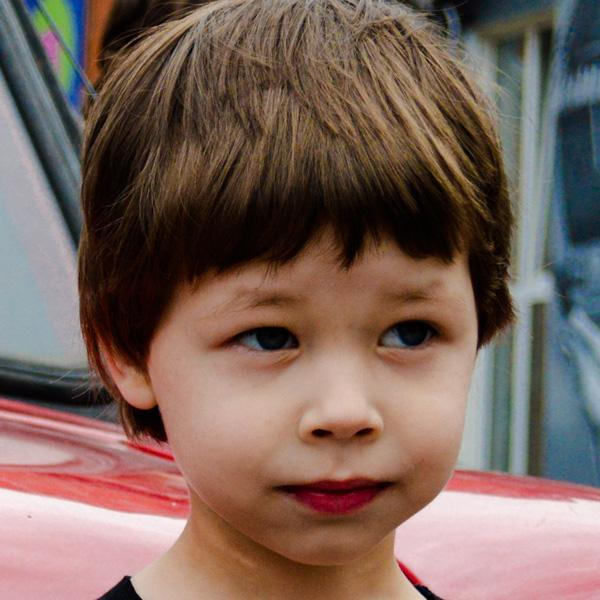Eyes: (367, 311, 454, 364), (216, 316, 312, 364)
